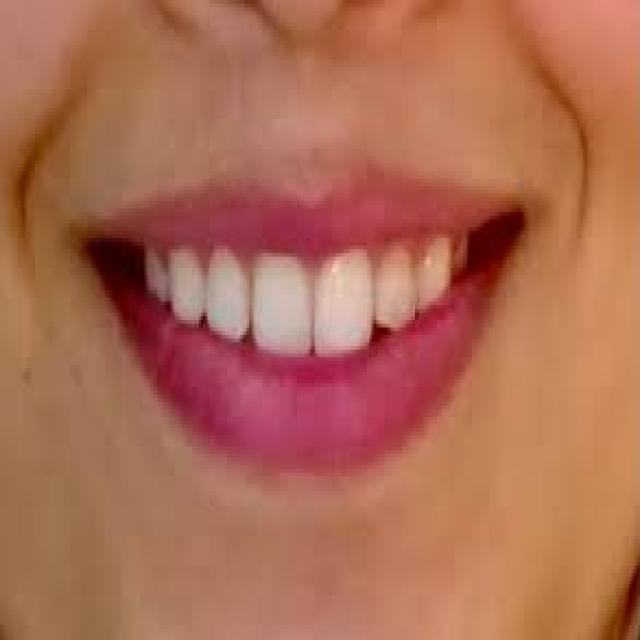tooth: (253, 250, 310, 354), (315, 253, 367, 350), (207, 245, 247, 335), (168, 246, 208, 324), (380, 253, 411, 327), (419, 231, 448, 305), (142, 246, 166, 294), (457, 227, 468, 272)
